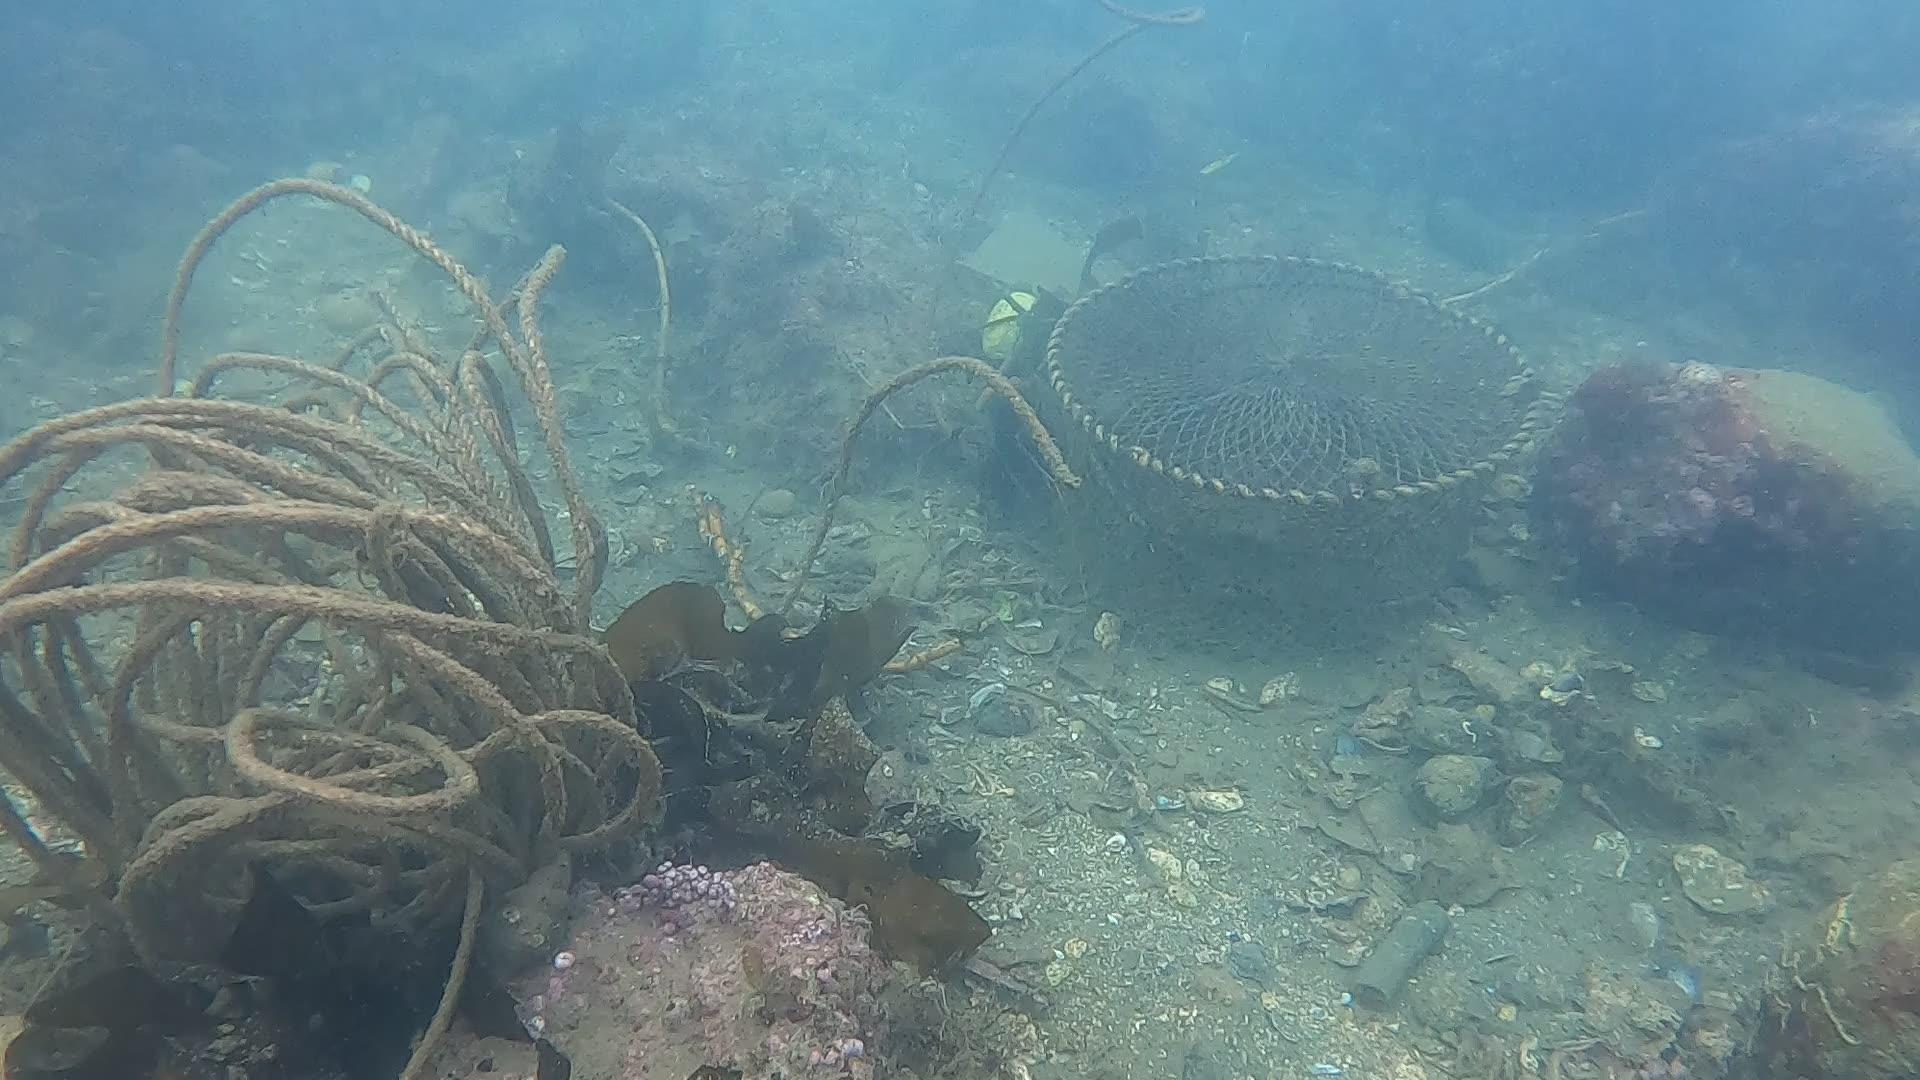bundle of ropes: (0, 169, 663, 1077)
circular fish trap: (1038, 244, 1559, 621)
rope: (694, 348, 1096, 626)
